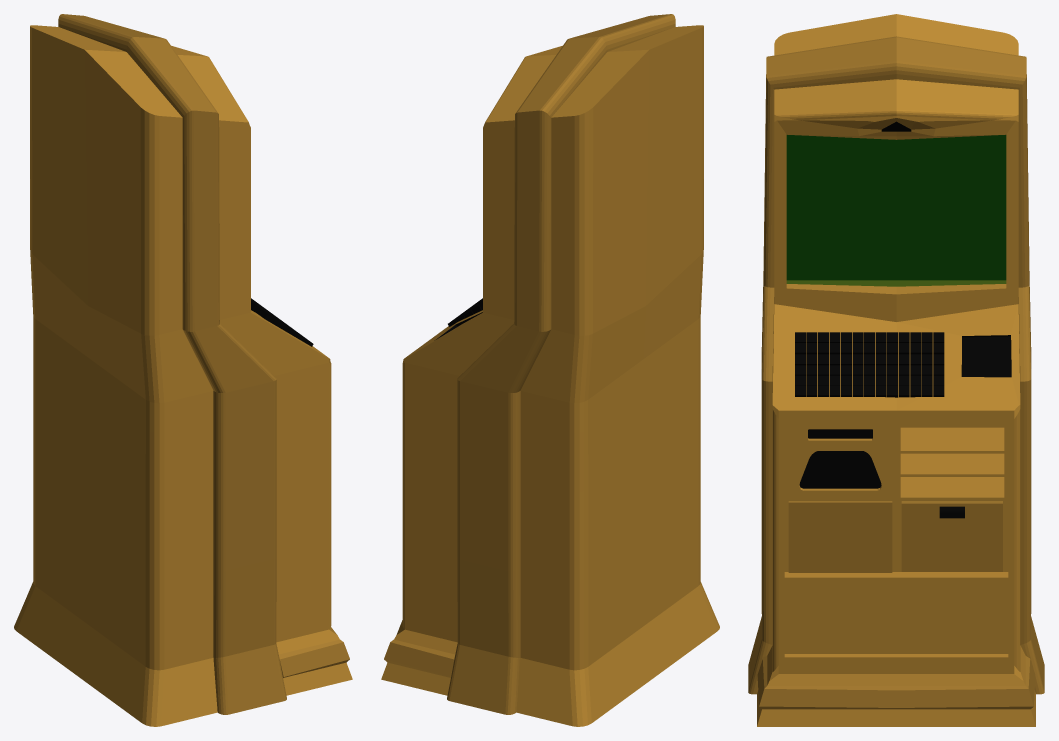
The model's file is terminal.fbx.
3 views of the same model, side by side, from view 1: azimuth 30°, elevation 25°; view 2: azimuth 150°, elevation 25°; view 3: azimuth 270°, elevation 25° (orthographic).
Parts seen in each view (by area): view 1: Cube, Cube.001; view 2: Cube; view 3: Cube, Cube.001.
Boxes of the visible parts, x1=… form: Cube: x1=14, y1=14, x2=352, y2=726; Cube.001: x1=251, y1=298, x2=313, y2=346; Cube: x1=381, y1=14, x2=719, y2=726; Cube: x1=748, y1=14, x2=1044, y2=726; Cube.001: x1=795, y1=332, x2=944, y2=397.
Size of the model in its own units: 108 by 318 by 138.
